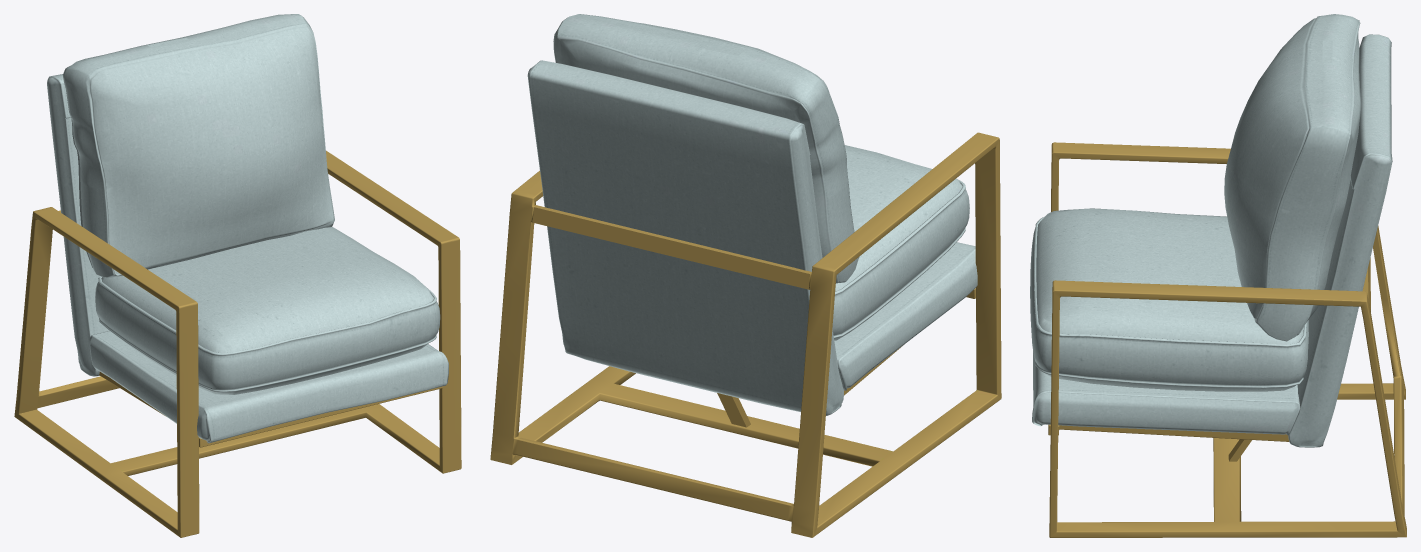
Rendered from office_chair_B0746H4BNS.glb.
The picture shows the model from 3 angles, left to right: view 1: azimuth 30°, elevation 25°; view 2: azimuth 150°, elevation 25°; view 3: azimuth 270°, elevation 25°; orthographic projection. The views are drawn at different scales.
Parts seen in each view (by area): view 1: RootNode; view 2: RootNode; view 3: RootNode.
Boxes of the visible parts, x1=… form: RootNode: x1=14, y1=14, x2=461, y2=537; RootNode: x1=490, y1=14, x2=1001, y2=537; RootNode: x1=1030, y1=14, x2=1406, y2=537.
Size of the model in its own units: 0.7584 by 0.9557 by 0.813.
1 material, 1 textured.
